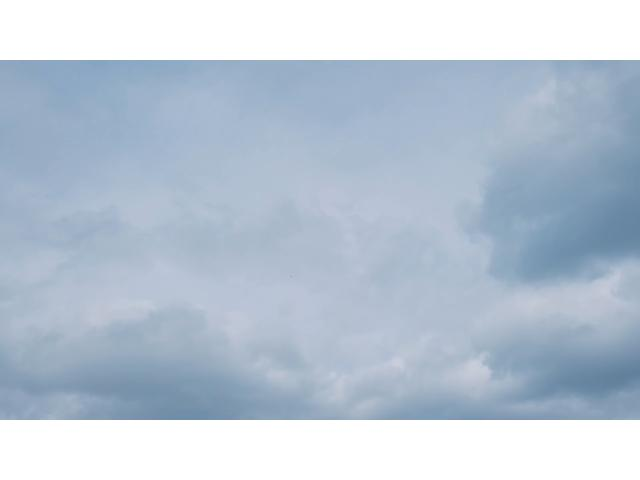Anti-Drone: (284, 271, 298, 281)
